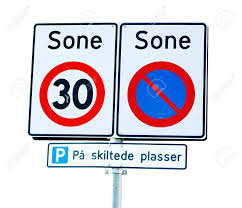Speed_limit_30km: (39, 62, 105, 127)
